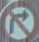Don't turn right: (0, 3, 38, 39)
